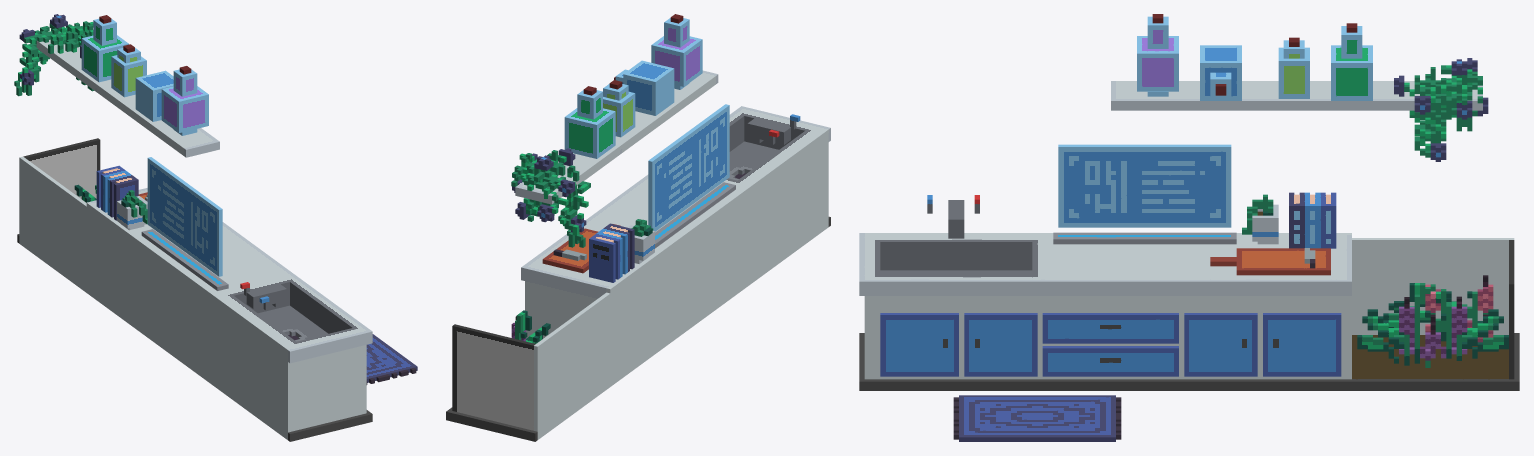
The model's file is Kitchen.gltf.
3 views of the same model, side by side, from view 1: azimuth 30°, elevation 25°; view 2: azimuth 150°, elevation 25°; view 3: azimuth 270°, elevation 25° (orthographic). The views are drawn at different scales.
Visible parts, largest first — view 1: Content-Mesh; view 2: Content-Mesh; view 3: Content-Mesh.
Boxes of the visible parts, bbox=[...] form: Content-Mesh: bbox=[14, 14, 417, 441]; Content-Mesh: bbox=[446, 14, 830, 441]; Content-Mesh: bbox=[859, 14, 1519, 441].
Size of the model in its own units: 51 by 71 by 126.
Materials: 1 (1 with a texture image).
